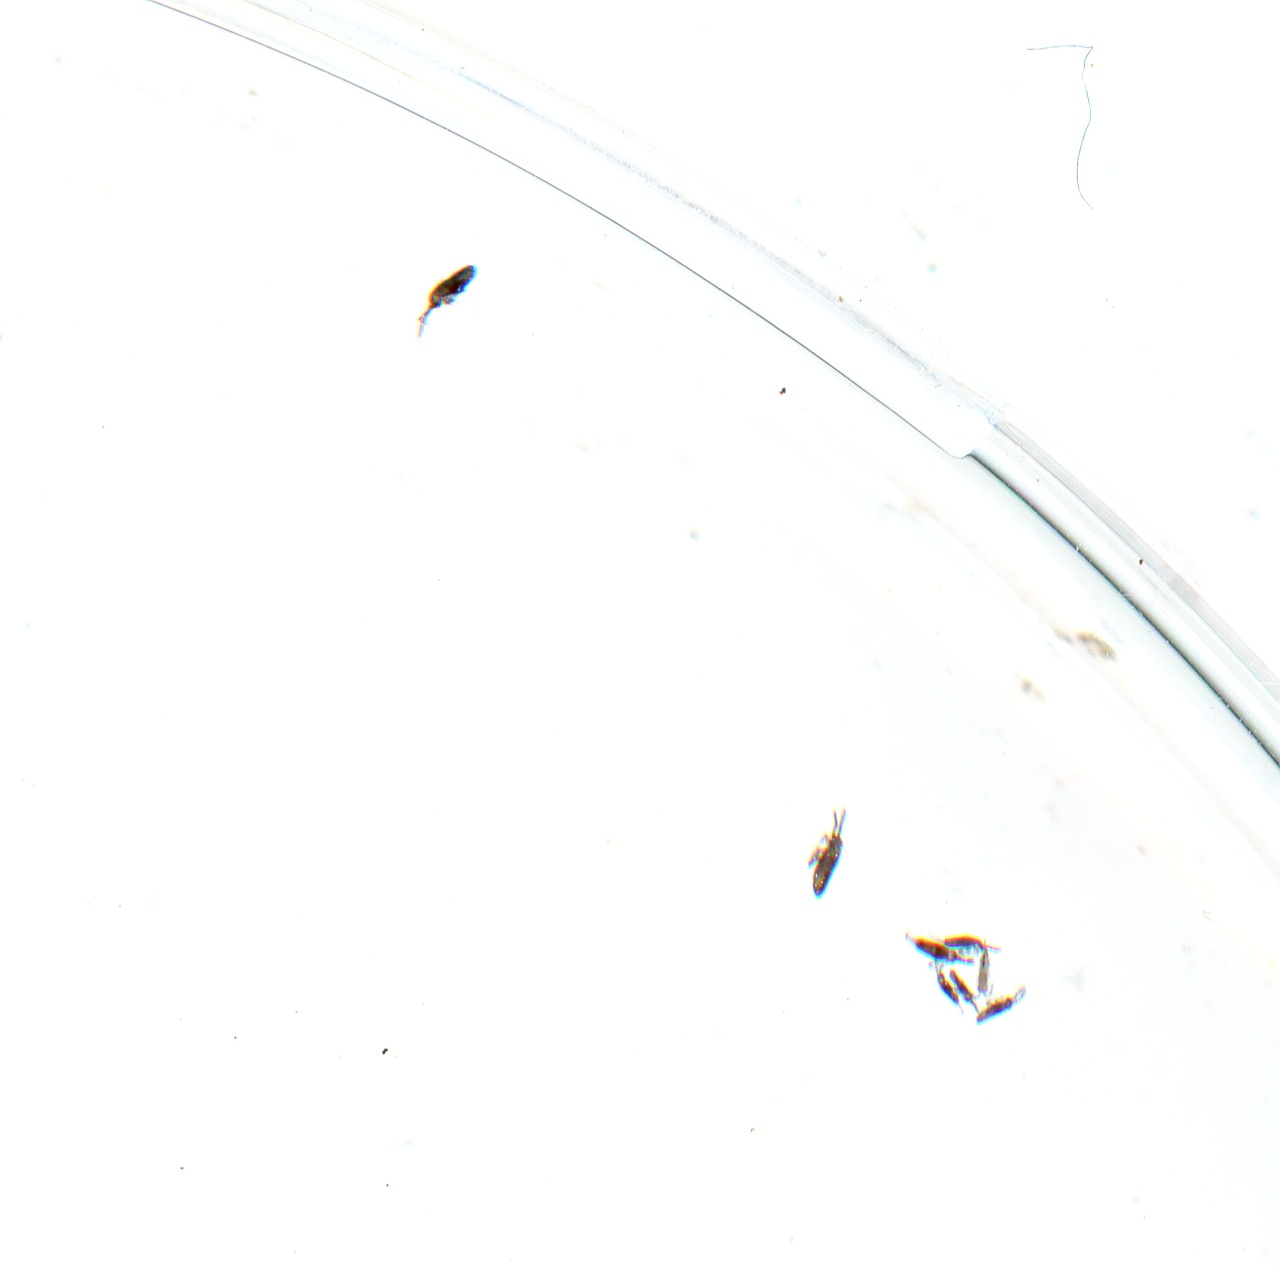arthropod: (790, 799, 865, 914), (403, 251, 483, 348), (893, 927, 984, 985), (968, 979, 1035, 1028), (928, 954, 967, 1022), (946, 961, 989, 1020), (970, 937, 995, 1001), (942, 934, 1004, 958)
